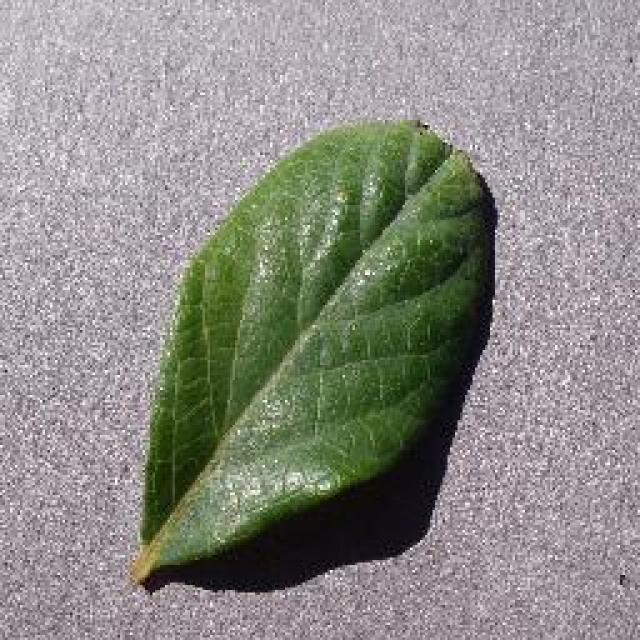Blu_healthy: (179, 156, 475, 456)
